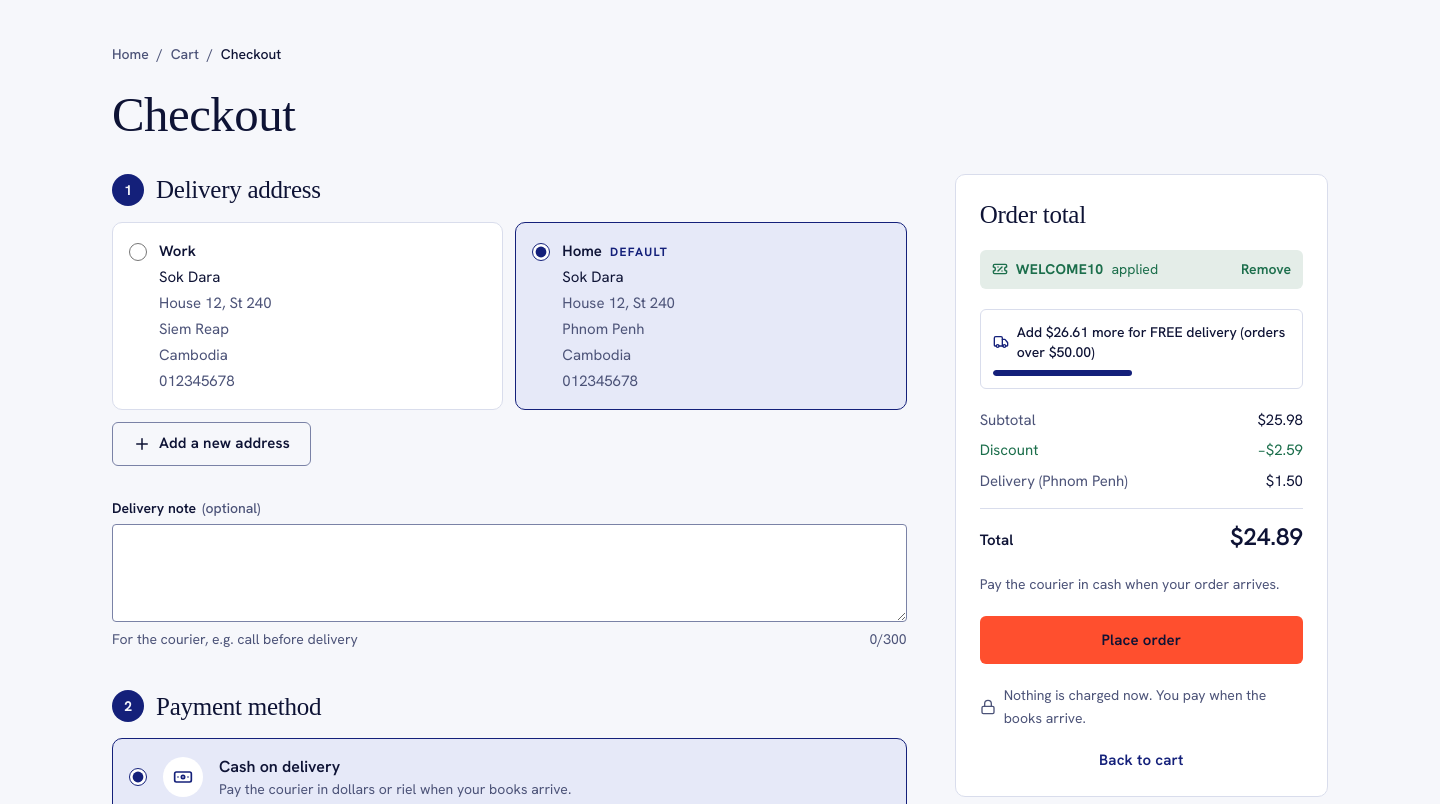
Test: CheckoutPage › preselects the default address and places a cash-on-delivery order
Expected: the text "−$2.59" is shown, left=1257, top=439, right=1303, bottom=462
Expected: the radio button labelled "Home" is checked, left=532, top=243, right=550, bottom=261
Click the button "Place order" at [1141, 640], box left=980, top=616, right=1303, bottom=664
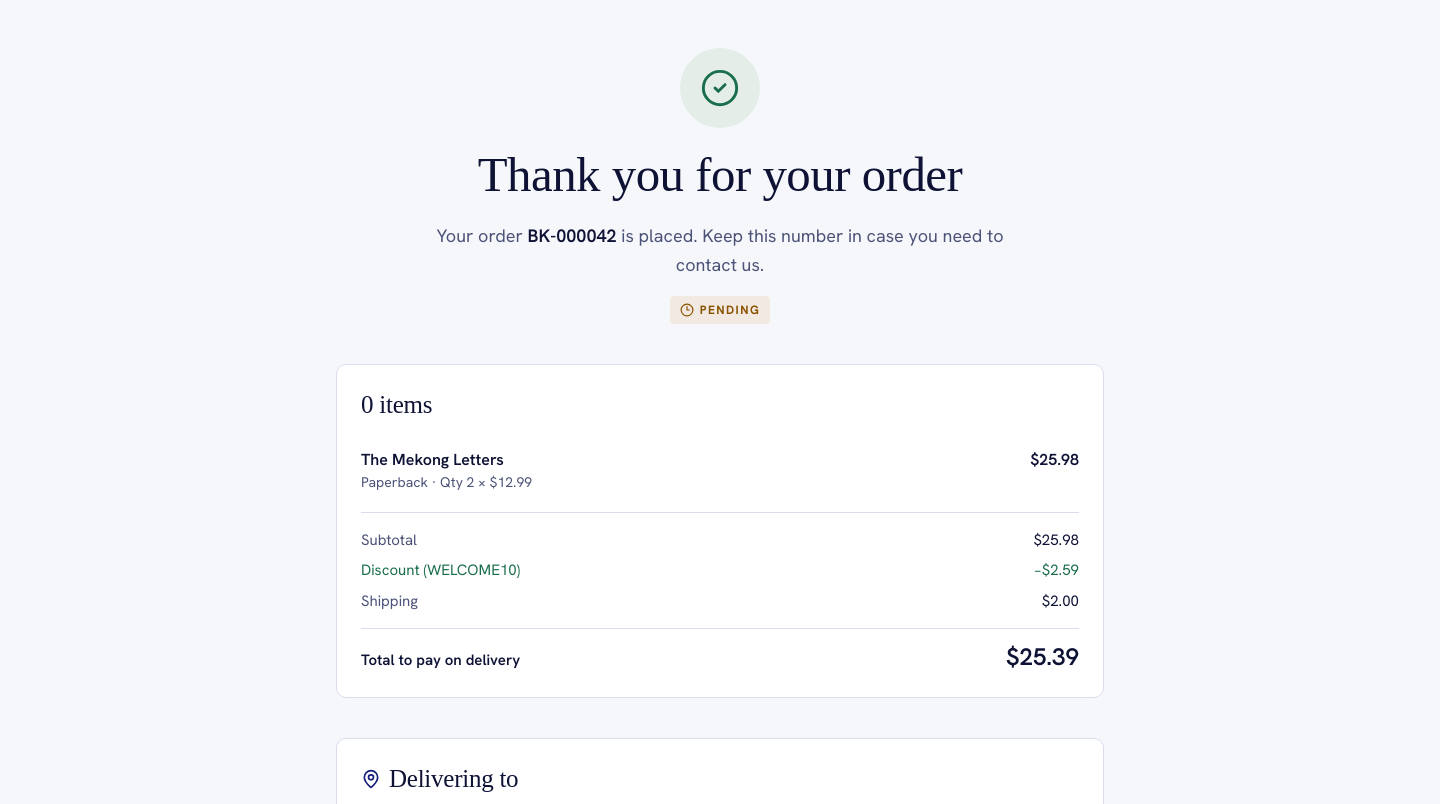
Now the heading "Thank you for your order" is shown, box left=478, top=144, right=962, bottom=205
Now the text "BK-000042" is shown, box left=528, top=224, right=617, bottom=247
